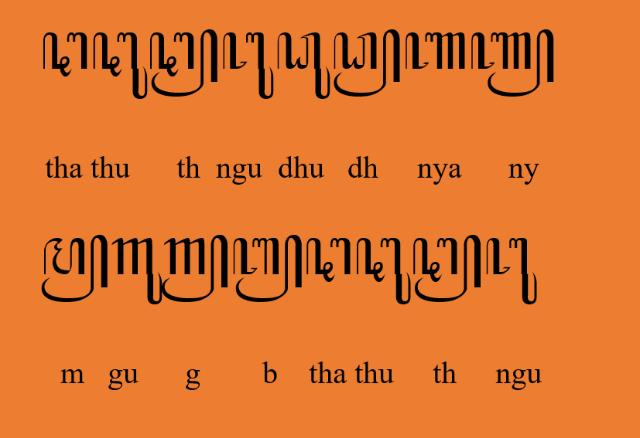-b: (233, 235, 303, 303)
-dh: (333, 28, 401, 98)
-g: (162, 234, 228, 304)
-m: (41, 235, 108, 304)
-ny: (471, 29, 555, 97)
-th: (149, 28, 219, 98), (413, 235, 481, 303)
dhu: (277, 32, 331, 100)
gu: (111, 238, 163, 306)
ngu: (223, 32, 275, 100), (485, 238, 537, 306)
ny1: (405, 32, 467, 70)
th: (306, 237, 352, 283), (42, 32, 88, 76)
thu: (356, 236, 412, 306), (94, 32, 148, 100)
